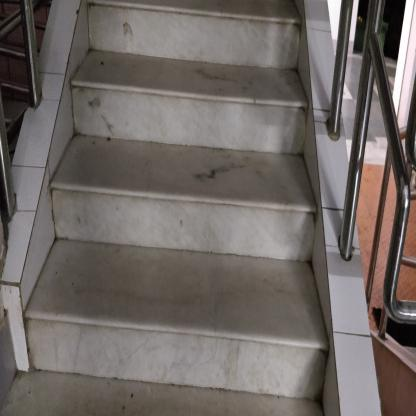stairs: (74, 82, 304, 416)
